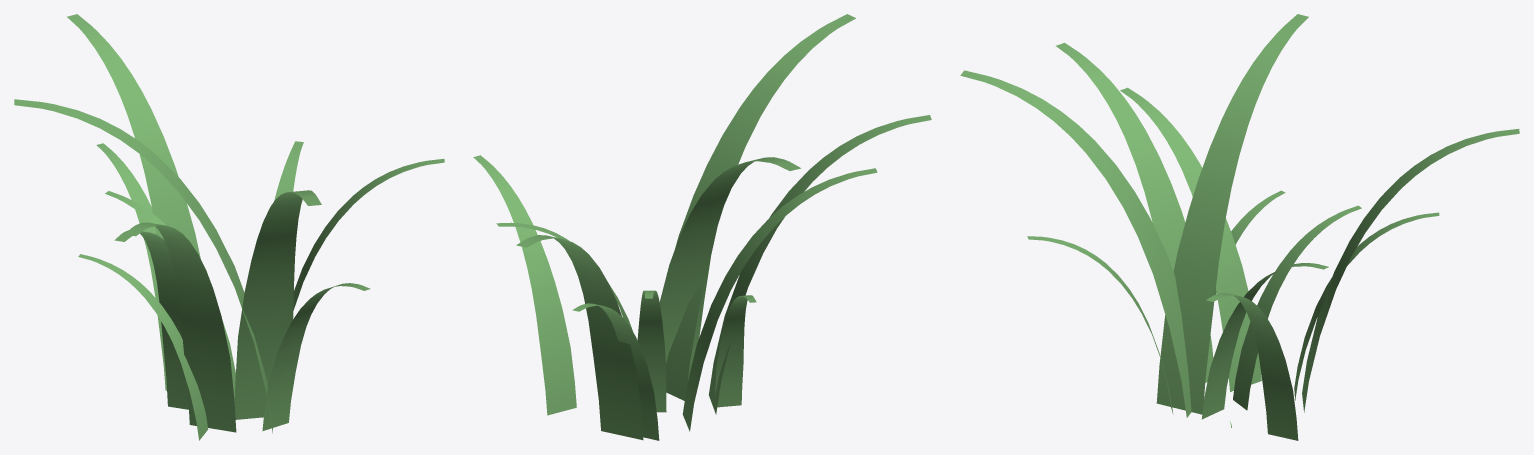
Rendered from grass_tuft_04.fbx.
3 renders of one model, left to right at view 1: azimuth 30°, elevation 25°; view 2: azimuth 150°, elevation 25°; view 3: azimuth 270°, elevation 25°, orthographic. The views are drawn at different scales.
Parts seen in each view (by area): view 1: Grass4; view 2: Grass4; view 3: Grass4.
Part boxes in pixels (left/top/right/bottom): Grass4: left=14, top=14, right=444, bottom=440; Grass4: left=473, top=14, right=931, bottom=440; Grass4: left=960, top=14, right=1519, bottom=440.
Bounding box in the file's own units: 97.51 × 75.35 × 125.
